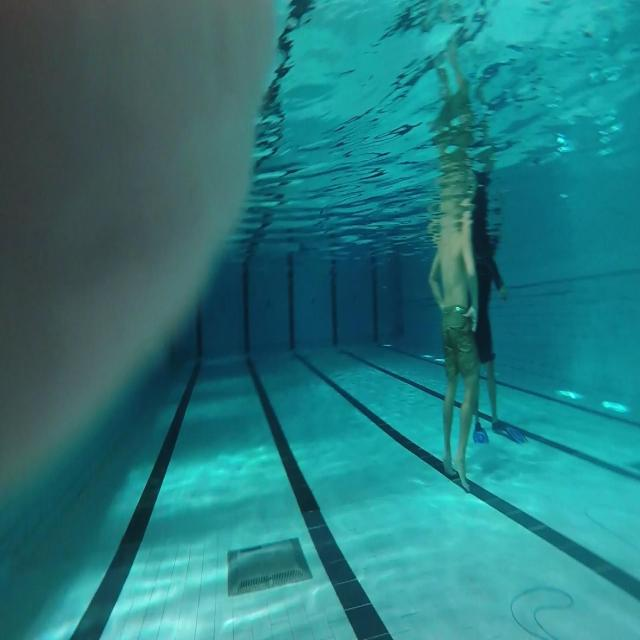human: (427, 29, 484, 492), (468, 165, 527, 445)
